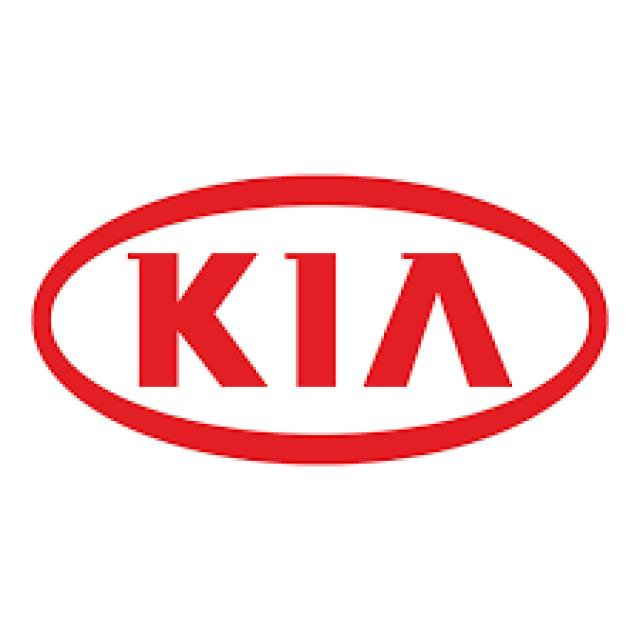kia: (29, 174, 620, 468)
